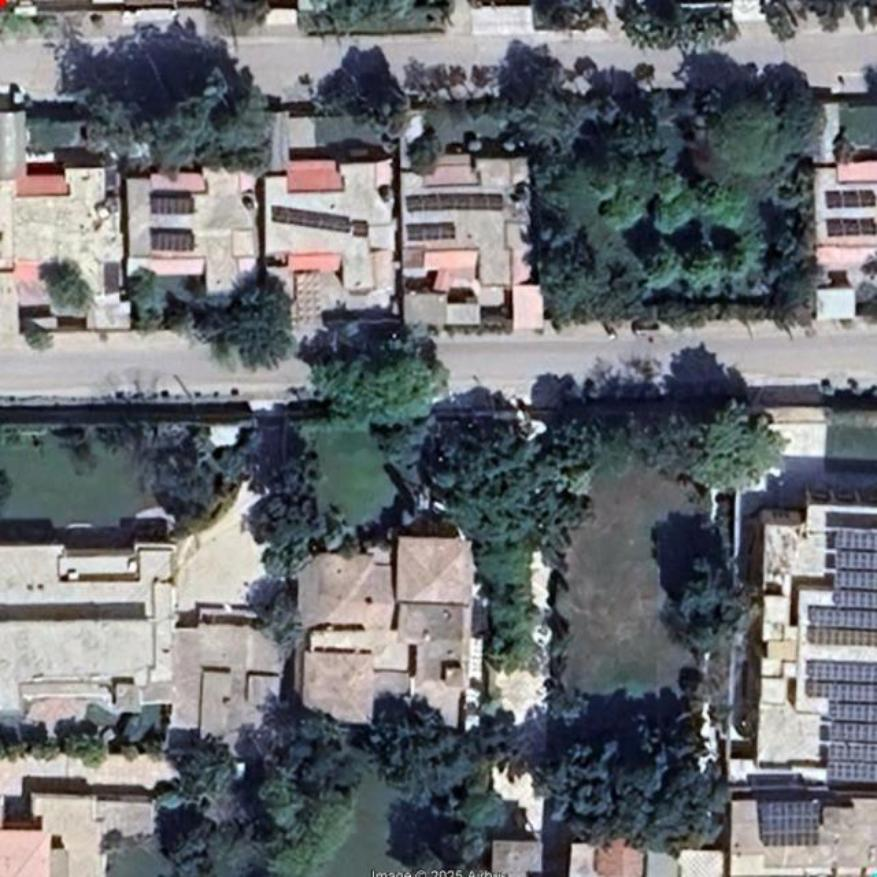Solarpanel: (827, 700, 876, 780), (831, 531, 876, 611), (808, 661, 876, 704), (272, 206, 368, 235), (762, 801, 819, 847), (812, 607, 876, 642), (408, 195, 503, 208), (826, 217, 874, 236), (151, 232, 194, 249), (409, 223, 455, 237), (828, 192, 875, 205), (153, 197, 190, 213)
